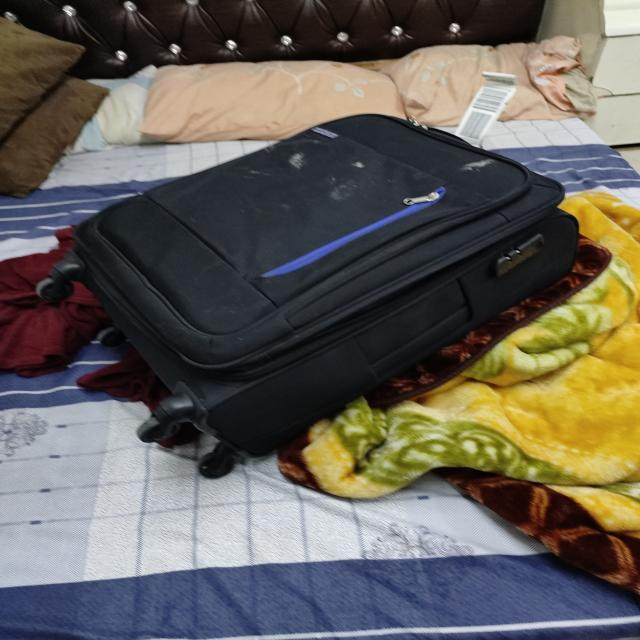suitcaserotation: (30, 108, 583, 482)
